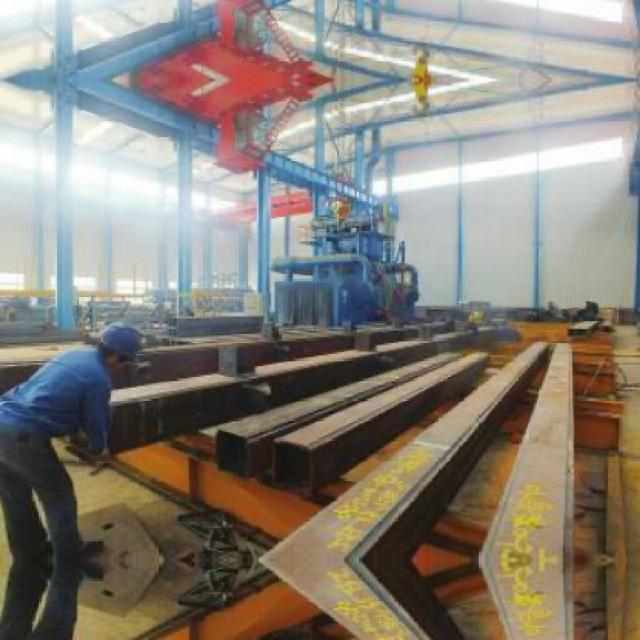helmet: (96, 322, 144, 372)
